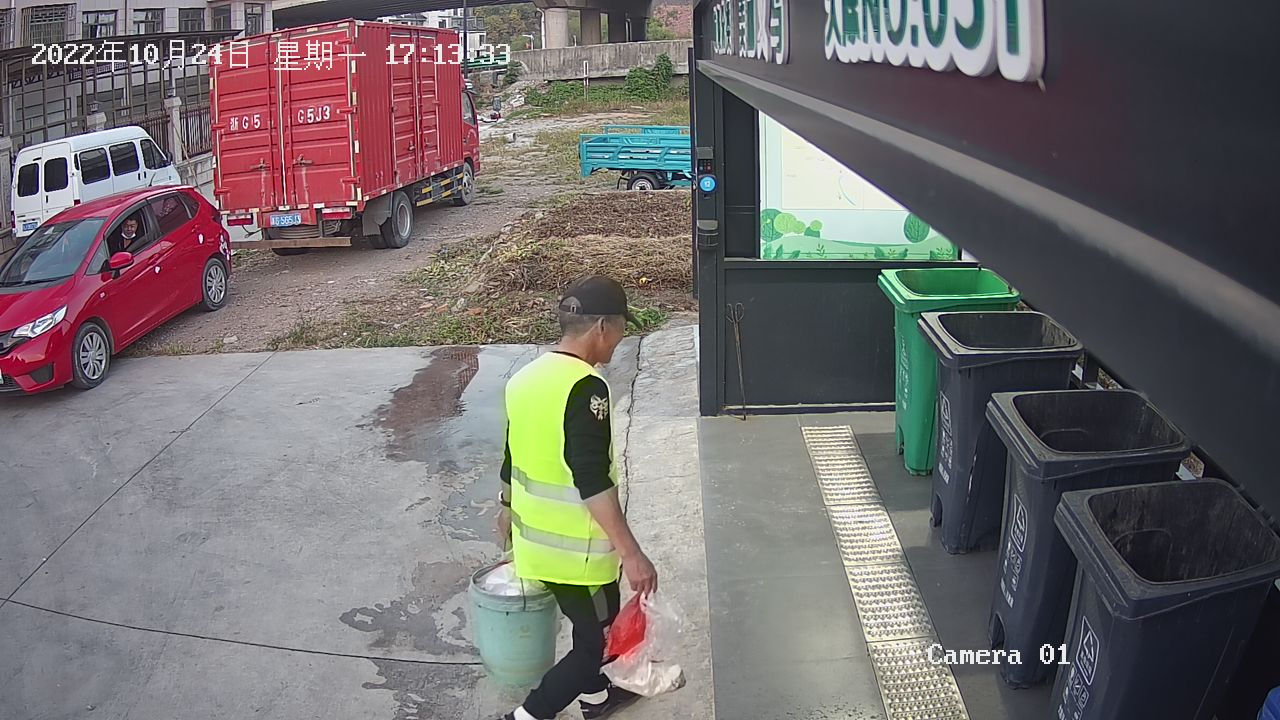garbage-bag: (596, 590, 693, 701), (595, 591, 647, 660)
worker: (491, 268, 668, 720)
youtong: (464, 528, 563, 690)
